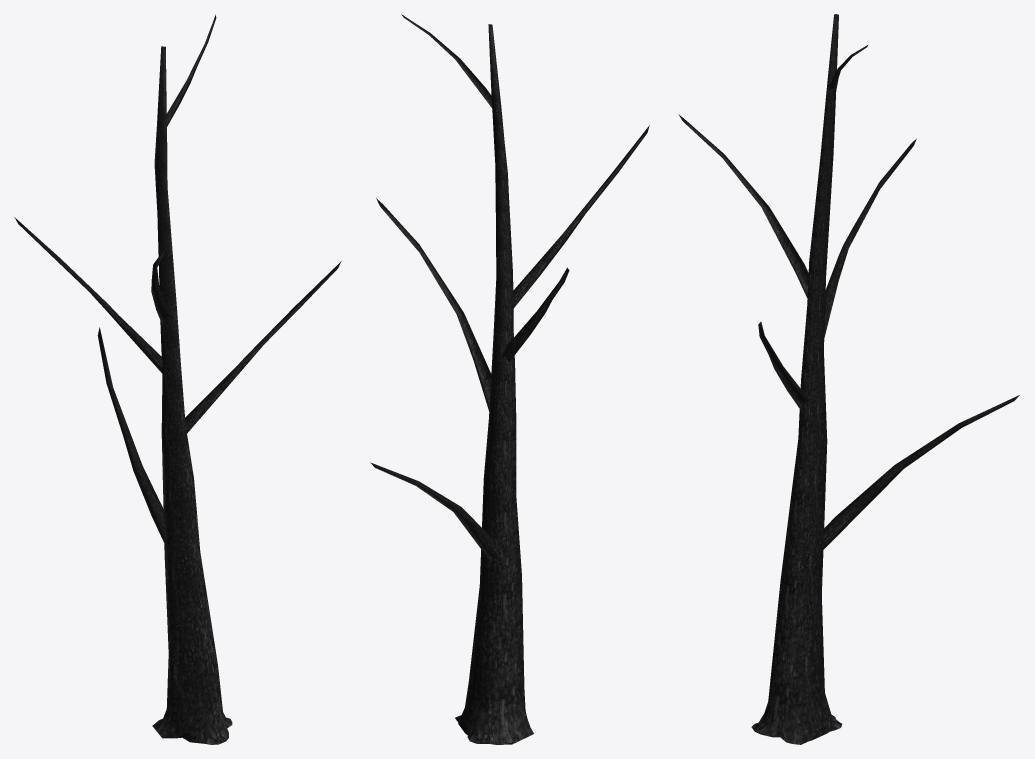
Rendered from tree_9.glb.
The picture shows the model from 3 angles, left to right: view 1: azimuth 30°, elevation 25°; view 2: azimuth 150°, elevation 25°; view 3: azimuth 270°, elevation 25°; orthographic projection. The views are drawn at different scales.
Visible parts, largest first — view 1: tree_9; view 2: tree_9; view 3: tree_9.
Boxes of the visible parts, x1,y1,x2,y2 form: tree_9: [14, 14, 341, 744]; tree_9: [370, 14, 649, 744]; tree_9: [678, 14, 1019, 744].
Bounding box in the file's own units: 1.75 × 4.47 × 1.96.
Materials: 1 (1 with a texture image).
